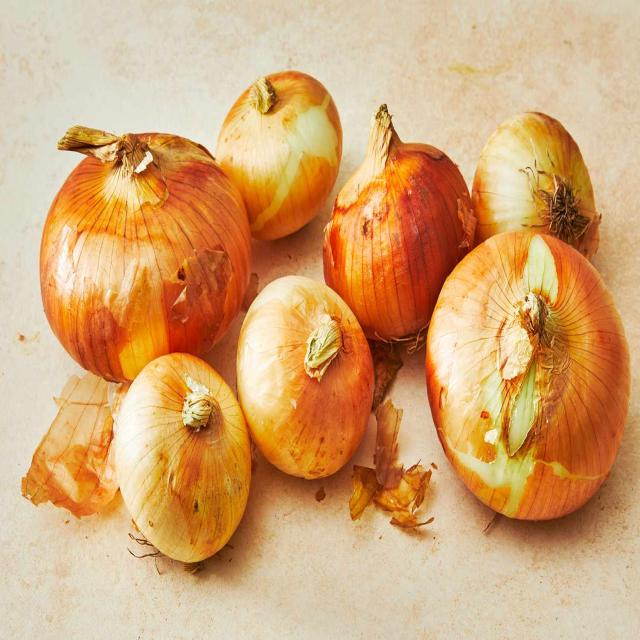apple: (426, 232, 633, 528), (39, 126, 255, 355), (325, 102, 478, 336), (242, 275, 378, 485), (117, 353, 252, 560), (472, 108, 602, 290), (216, 72, 342, 234)
